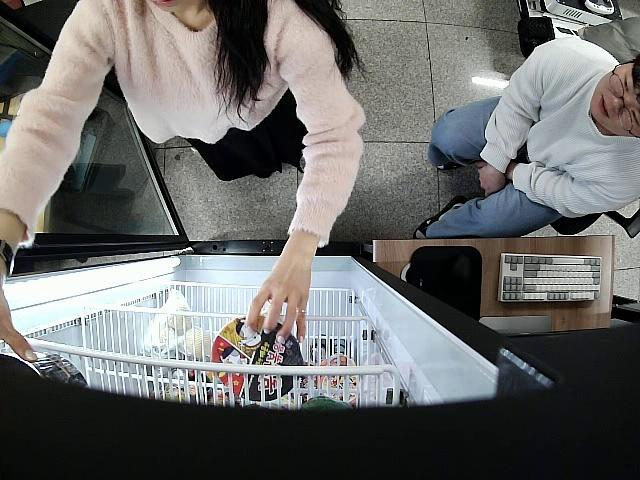00_hand: (245, 245, 311, 345), (0, 278, 40, 366)
07_buldak_L: (212, 316, 301, 402)
